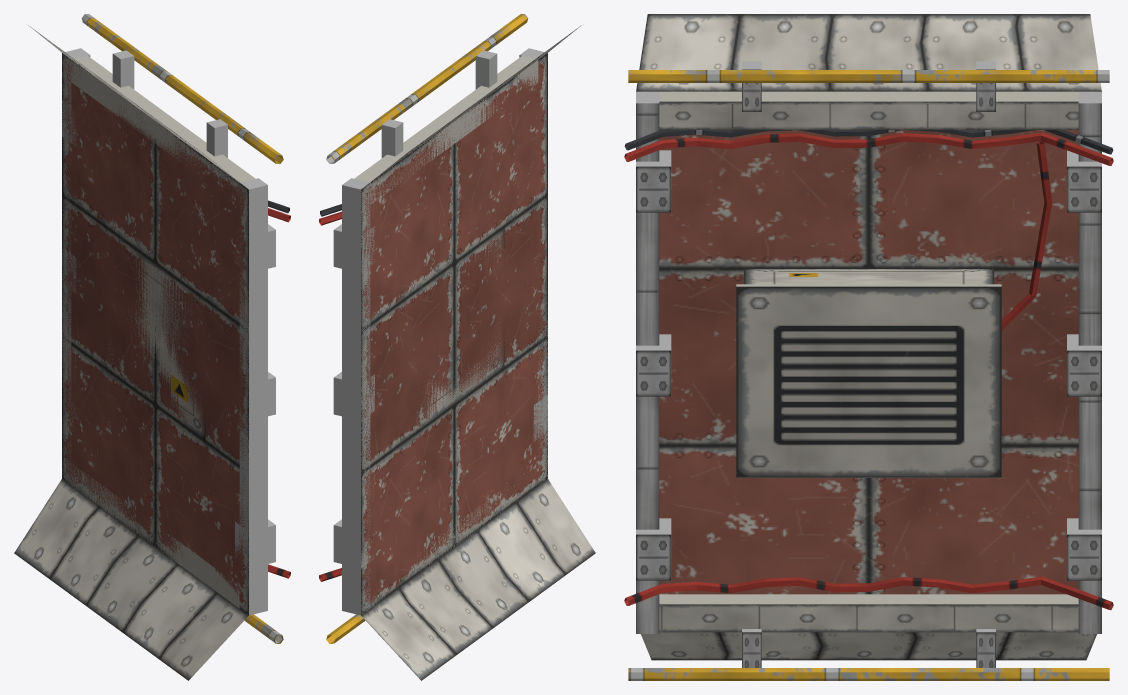
Rendered from cen_wall_red_vent.fbx.
3 views of the same model, side by side, from view 1: azimuth 30°, elevation 25°; view 2: azimuth 150°, elevation 25°; view 3: azimuth 270°, elevation 25° (orthographic). The views are drawn at different scales.
Visible parts, largest first — view 1: cen_wall_red_vent; view 2: cen_wall_red_vent; view 3: cen_wall_red_vent.
Boxes of the visible parts, left/top/right/bottom form: cen_wall_red_vent: left=14, top=14, right=290, bottom=680; cen_wall_red_vent: left=319, top=14, right=595, bottom=680; cen_wall_red_vent: left=624, top=14, right=1113, bottom=680.
Bounding box in the file's own units: 0.3525 × 1.85 × 1.25.
Materials: 1 (1 with a texture image).
